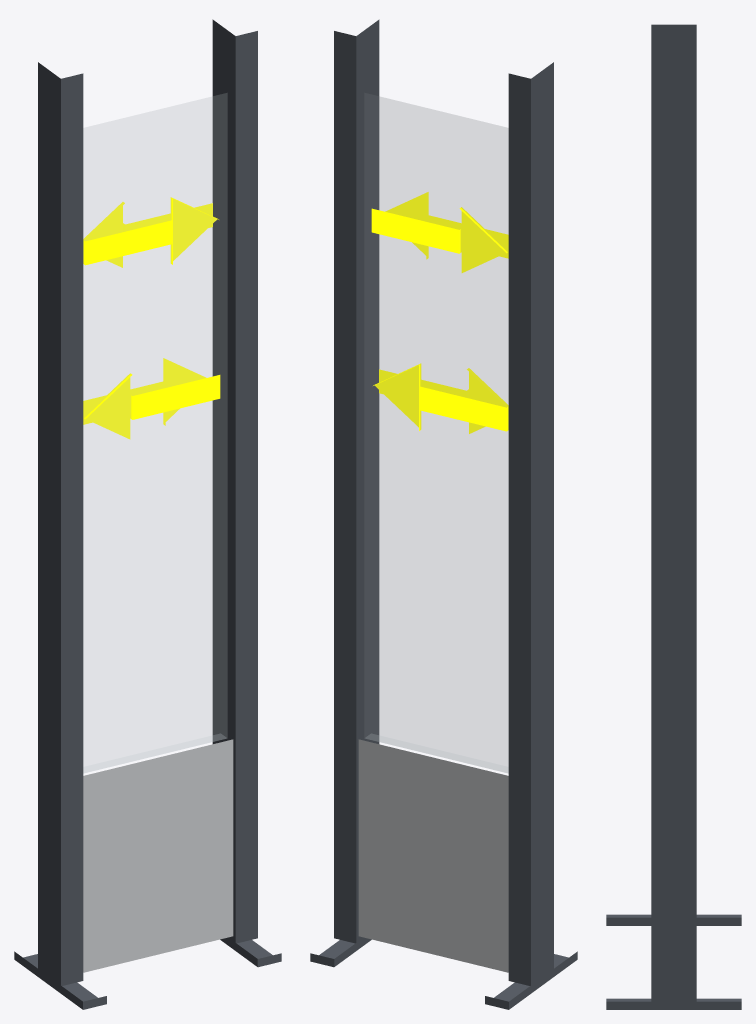
The model's file is ext_wayfinding_totem_02.glb.
3 views of the same model, side by side, from view 1: azimuth 30°, elevation 25°; view 2: azimuth 150°, elevation 25°; view 3: azimuth 270°, elevation 25° (orthographic).
Visible parts, largest first — view 1: Glass_Panel, Posts, Base_Bar, Arrows, Feet; view 2: Glass_Panel, Posts, Base_Bar, Arrows, Feet; view 3: Posts, Feet.
Part boxes in pixels (x1=…): Glass_Panel: x1=83, y1=93, x2=227, y2=773; Posts: x1=38, y1=19, x2=257, y2=985; Base_Bar: x1=83, y1=739, x2=233, y2=972; Arrows: x1=83, y1=197, x2=220, y2=439; Feet: x1=14, y1=937, x2=281, y2=1009; Glass_Panel: x1=364, y1=93, x2=508, y2=773; Posts: x1=334, y1=19, x2=553, y2=985; Base_Bar: x1=358, y1=739, x2=508, y2=972; Arrows: x1=371, y1=192, x2=508, y2=433; Feet: x1=310, y1=937, x2=577, y2=1009; Posts: x1=651, y1=24, x2=696, y2=1001; Feet: x1=606, y1=914, x2=741, y2=1009.
Size of the model in its own units: 0.5 by 2.2 by 0.3.
